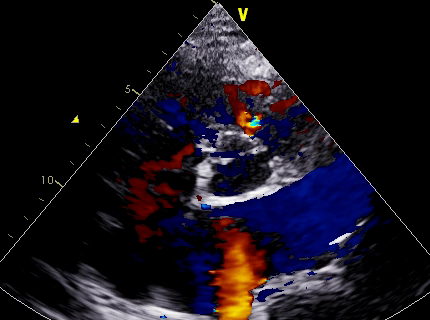TR: (145, 101, 205, 174)
